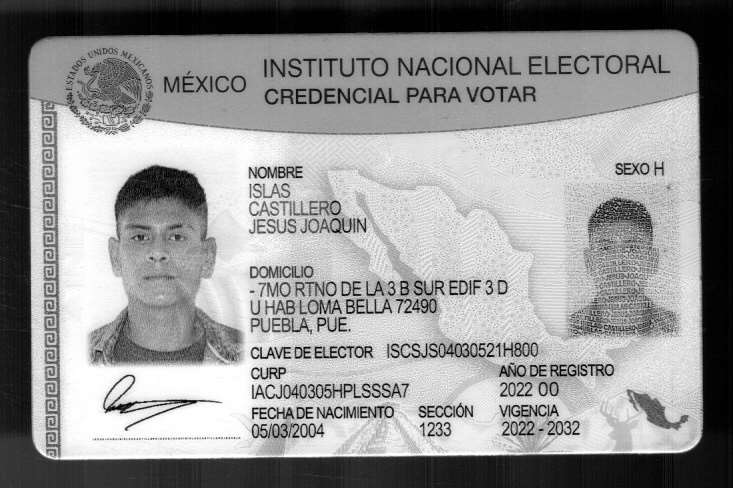ESCUDO: (64, 47, 154, 136)
MAPA: (625, 388, 691, 432)
PALABRA: (527, 55, 672, 74)
